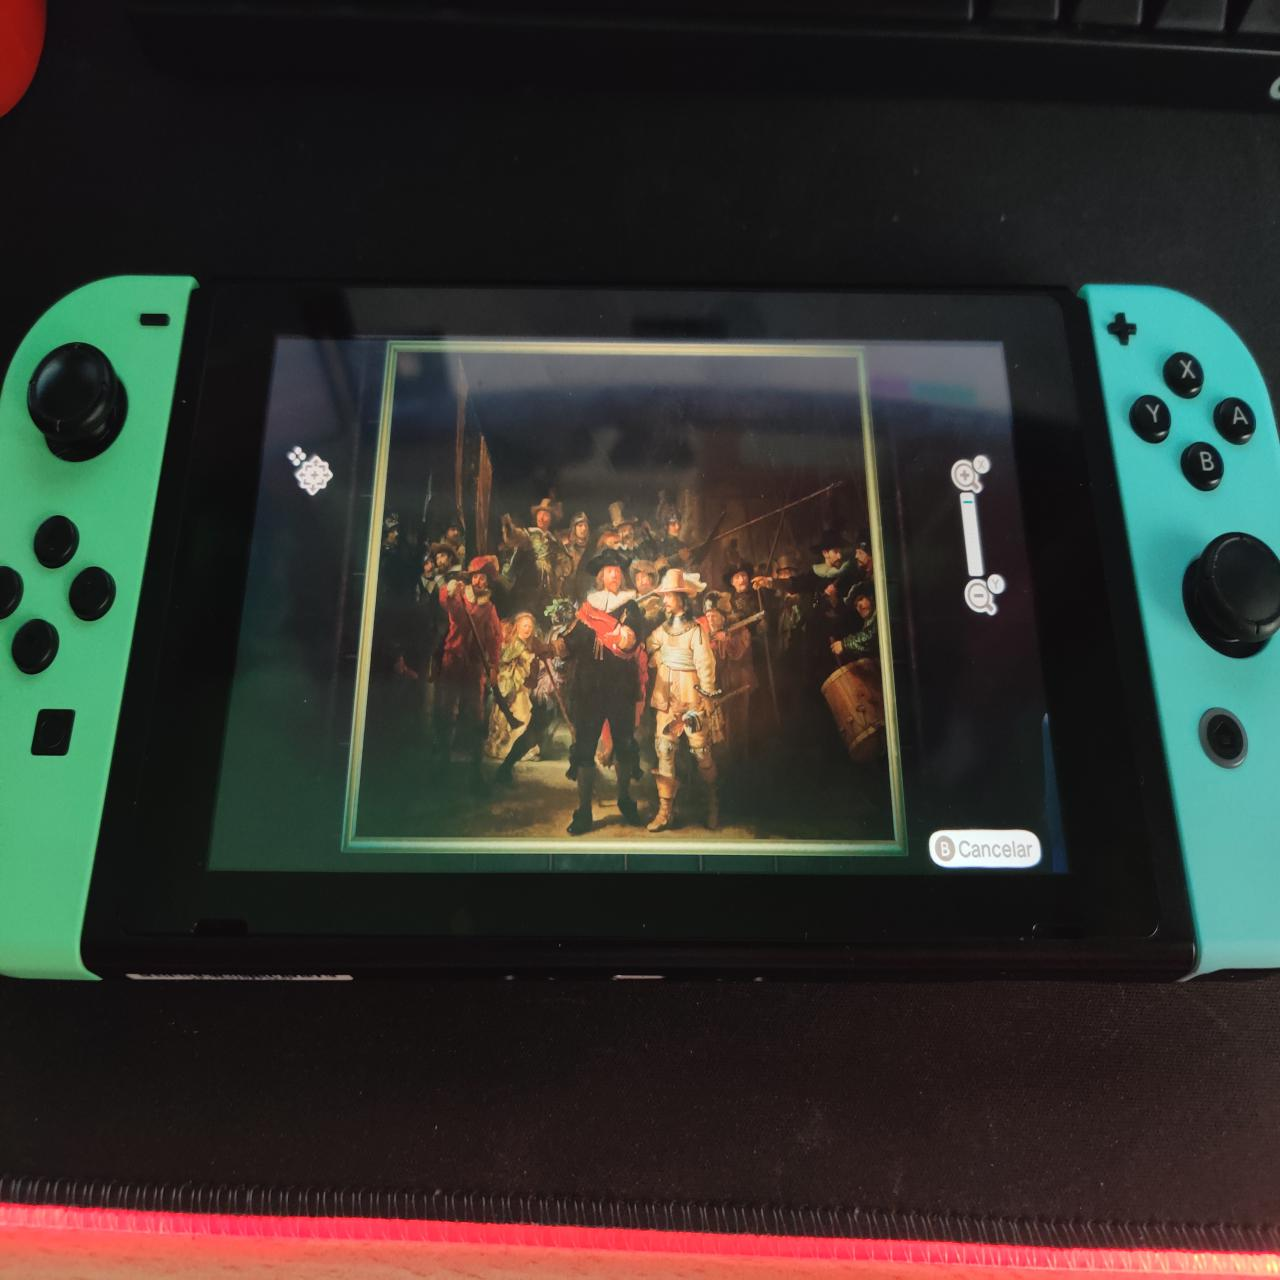NightWatch: (355, 350, 896, 844)
